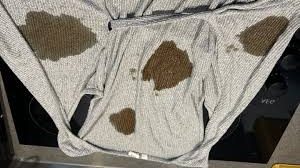coffee: (26, 22, 81, 57), (146, 50, 186, 86), (249, 26, 273, 49), (113, 110, 135, 132)
